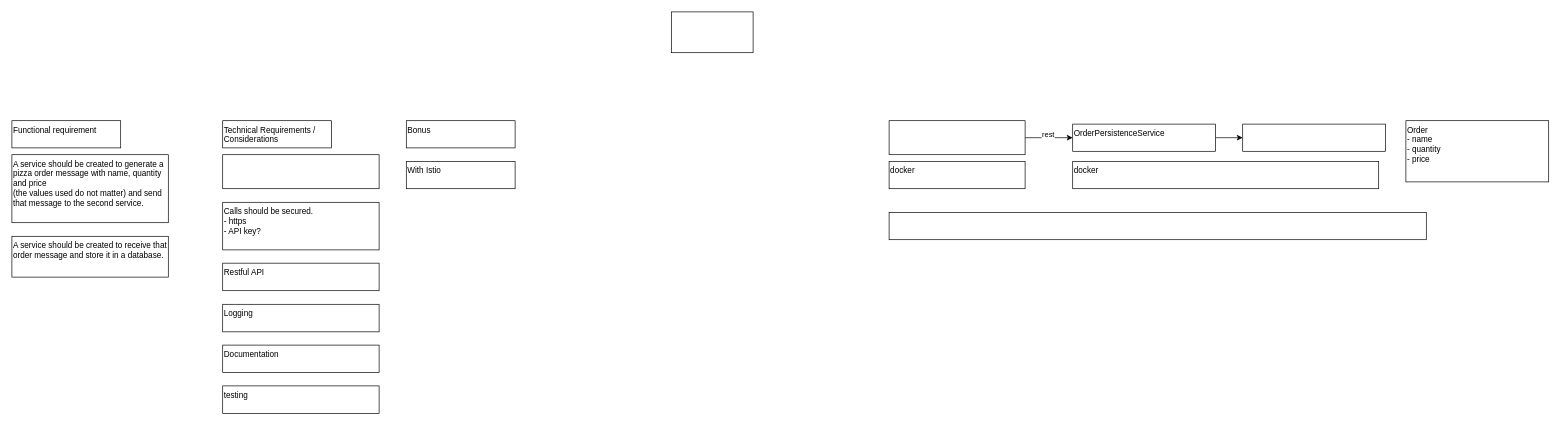
Image size: 1561x426. Some labels were removed from this diagram. Here are the shapes that lost their labels. From the top down, the centre of each, then its label:
At [712,32]: "Pizza joint - order pizza online".
At [956,137]: "OrderGenerationService".
At [1314,137]: "H2 Database".
At [300,171]: "The database does not need to be persistent, H2 can be used.".
At [1157,226]: "docker compose with istio".
